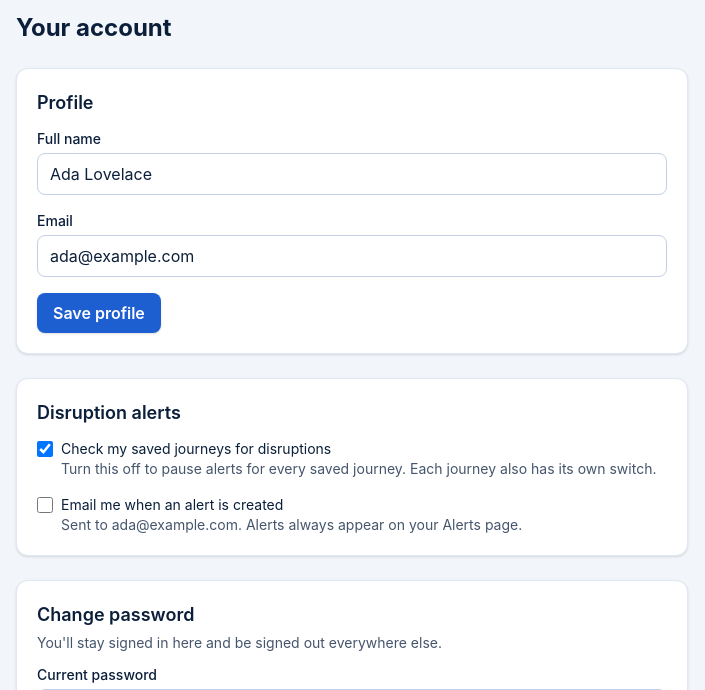
Test: AccountPage alert settings › rolls the switch back and explains when saving fails
Click the checkbox labelled "Check my saved journeys for disruptions". click: click(45, 449)
box: [37,441,53,457]
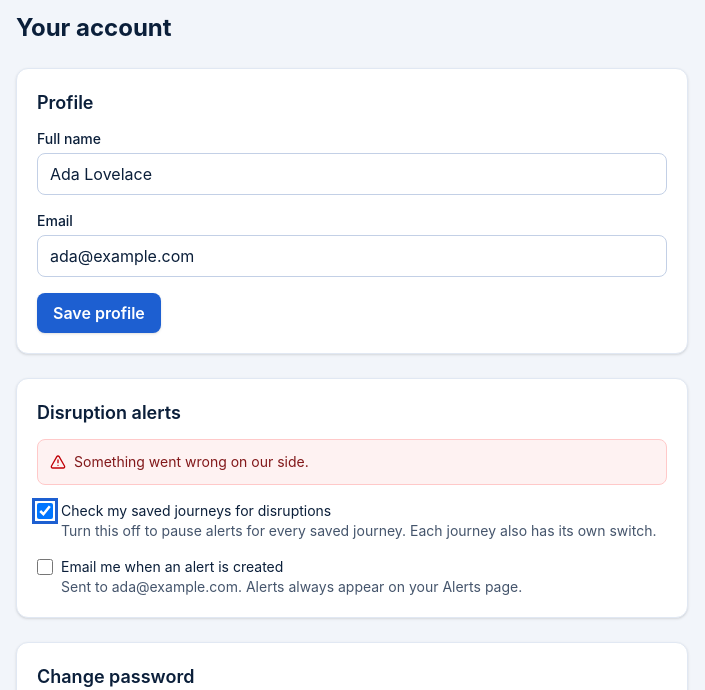
Expected: the checkbox labelled "Check my saved journeys for disruptions" is checked, [37,503,53,519]
Result: the text "Something went wrong on our side." is shown at [74,452,309,472]
